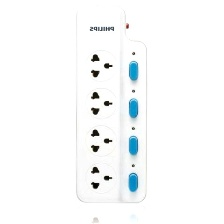three_eye_plug: (74, 3, 152, 205)
